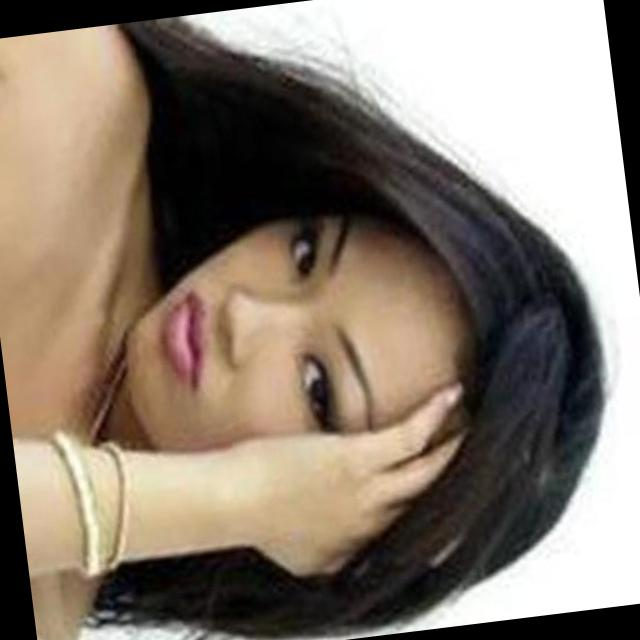bareface: (102, 179, 634, 617)
